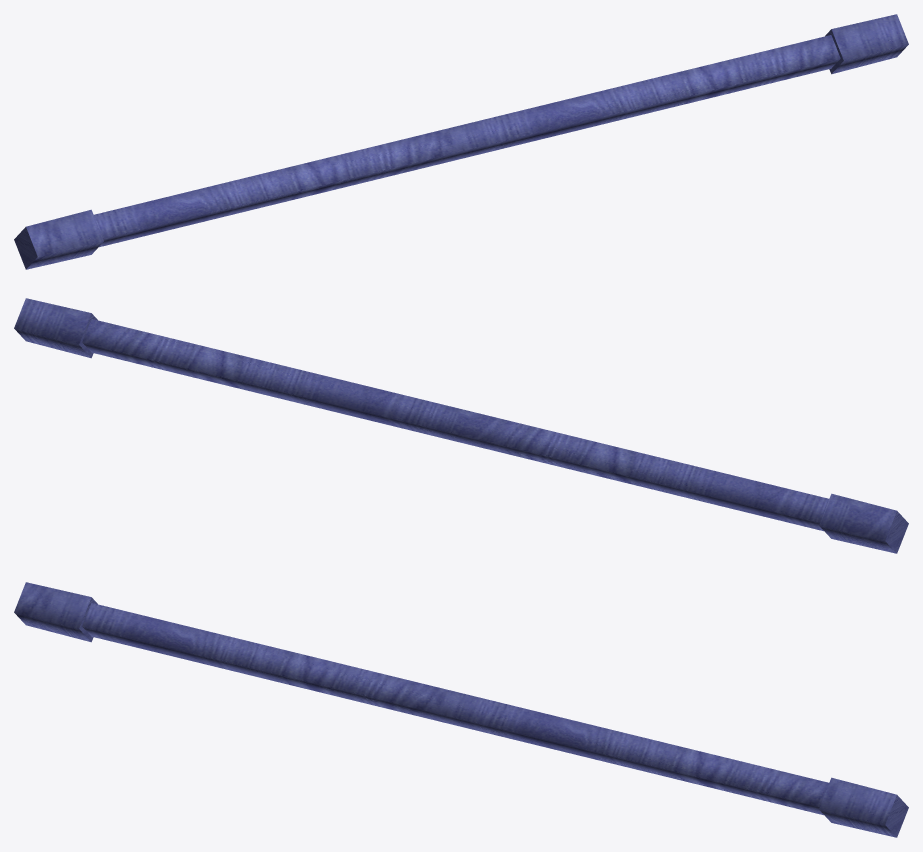
Rendered from Blue stick.FBX.
The picture shows the model from 3 angles, top to bottom: view 1: azimuth 30°, elevation 25°; view 2: azimuth 150°, elevation 25°; view 3: azimuth 330°, elevation 25°; orthographic projection.
Visible parts, largest first — view 1: Cylinder003; view 2: Cylinder003; view 3: Cylinder003.
Boxes of the visible parts, x1,y1,x2,y2 form: Cylinder003: [14, 14, 908, 269]; Cylinder003: [14, 298, 908, 553]; Cylinder003: [14, 582, 908, 837].
Bounding box in the file's own units: 92.86 × 4.61 × 4.61.
1 material, 1 textured.
